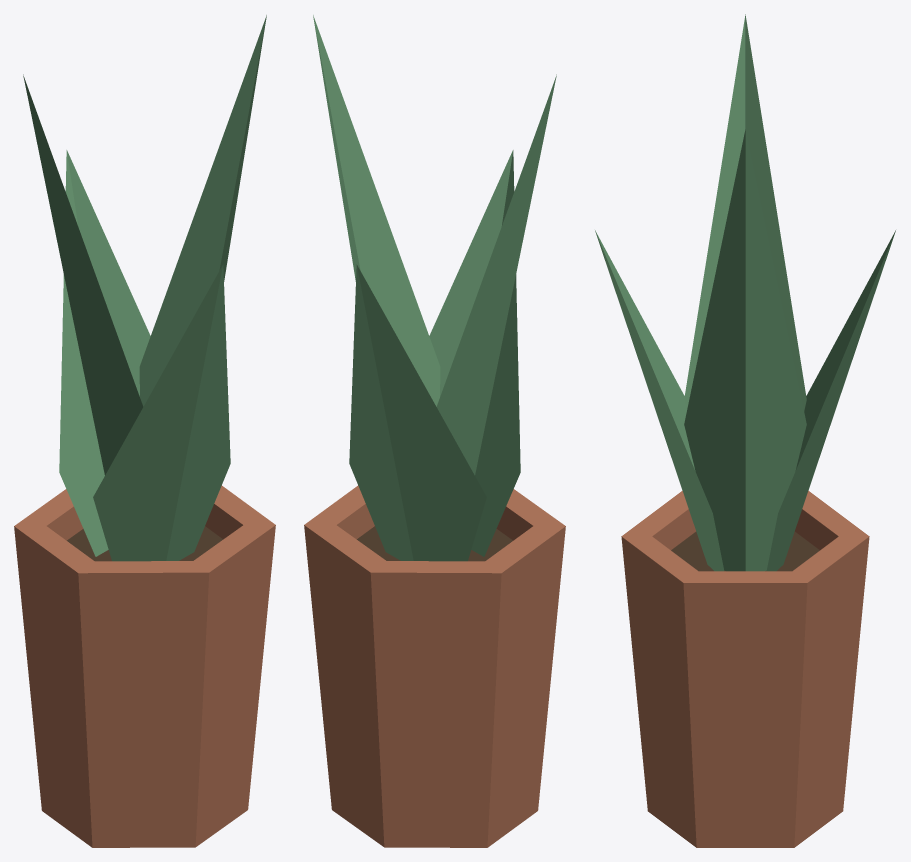
Rendered from plant-potted.glb.
3 views of the same model, side by side, from view 1: azimuth 30°, elevation 25°; view 2: azimuth 150°, elevation 25°; view 3: azimuth 270°, elevation 25° (orthographic). The views are drawn at different scales.
Parts seen in each view (by area): view 1: plant-potted; view 2: plant-potted; view 3: plant-potted.
Boxes of the visible parts, x1=… form: plant-potted: x1=14, y1=15, x2=275, y2=847; plant-potted: x1=304, y1=15, x2=565, y2=847; plant-potted: x1=595, y1=14, x2=895, y2=847.
Bounding box in the file's own units: 0.45 × 1.35 × 0.5.
